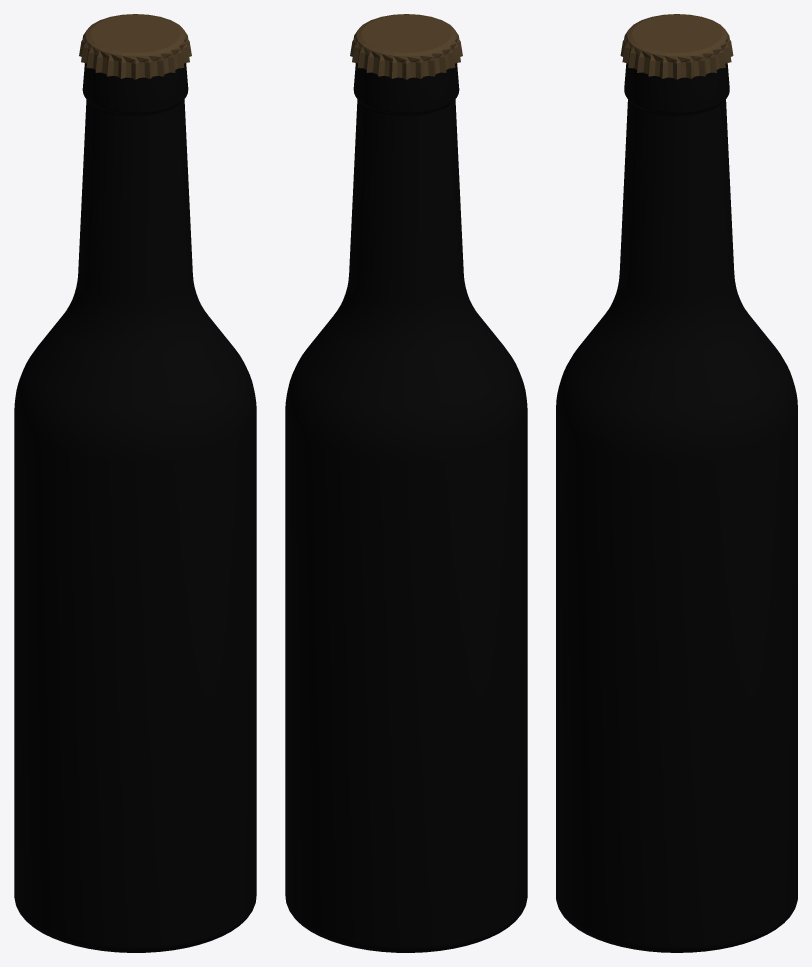
3 renders of one model, left to right at view 1: azimuth 30°, elevation 25°; view 2: azimuth 150°, elevation 25°; view 3: azimuth 270°, elevation 25°, orthographic.
Visible parts, largest first — view 1: beer_2_1_bottle, beer_2_1_cap_01; view 2: beer_2_1_bottle, beer_2_1_cap_01; view 3: beer_2_1_bottle, beer_2_1_cap_01.
Part boxes in pixels (left/top/right/bottom): beer_2_1_bottle: left=14, top=63, right=256, bottom=952; beer_2_1_cap_01: left=79, top=14, right=191, bottom=79; beer_2_1_bottle: left=285, top=63, right=527, bottom=952; beer_2_1_cap_01: left=350, top=14, right=462, bottom=79; beer_2_1_bottle: left=556, top=63, right=797, bottom=952; beer_2_1_cap_01: left=620, top=14, right=733, bottom=79.
Size of the model in its own units: 58.62 by 233 by 58.5.
